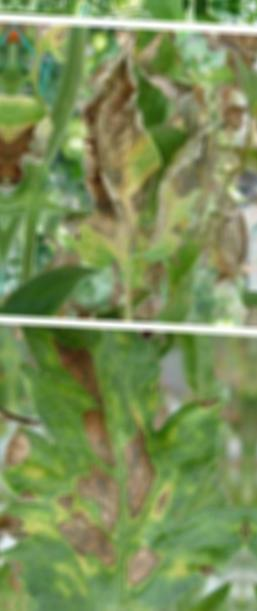Tomato leaf bacterial spot: (0, 335, 247, 611)
